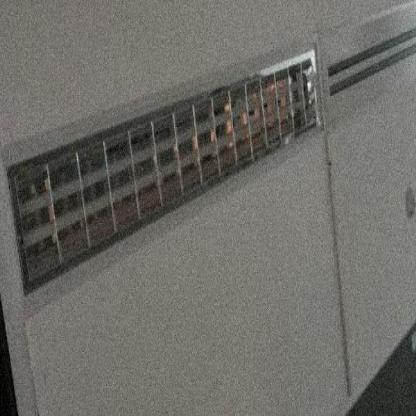light_off: (0, 22, 334, 310)
